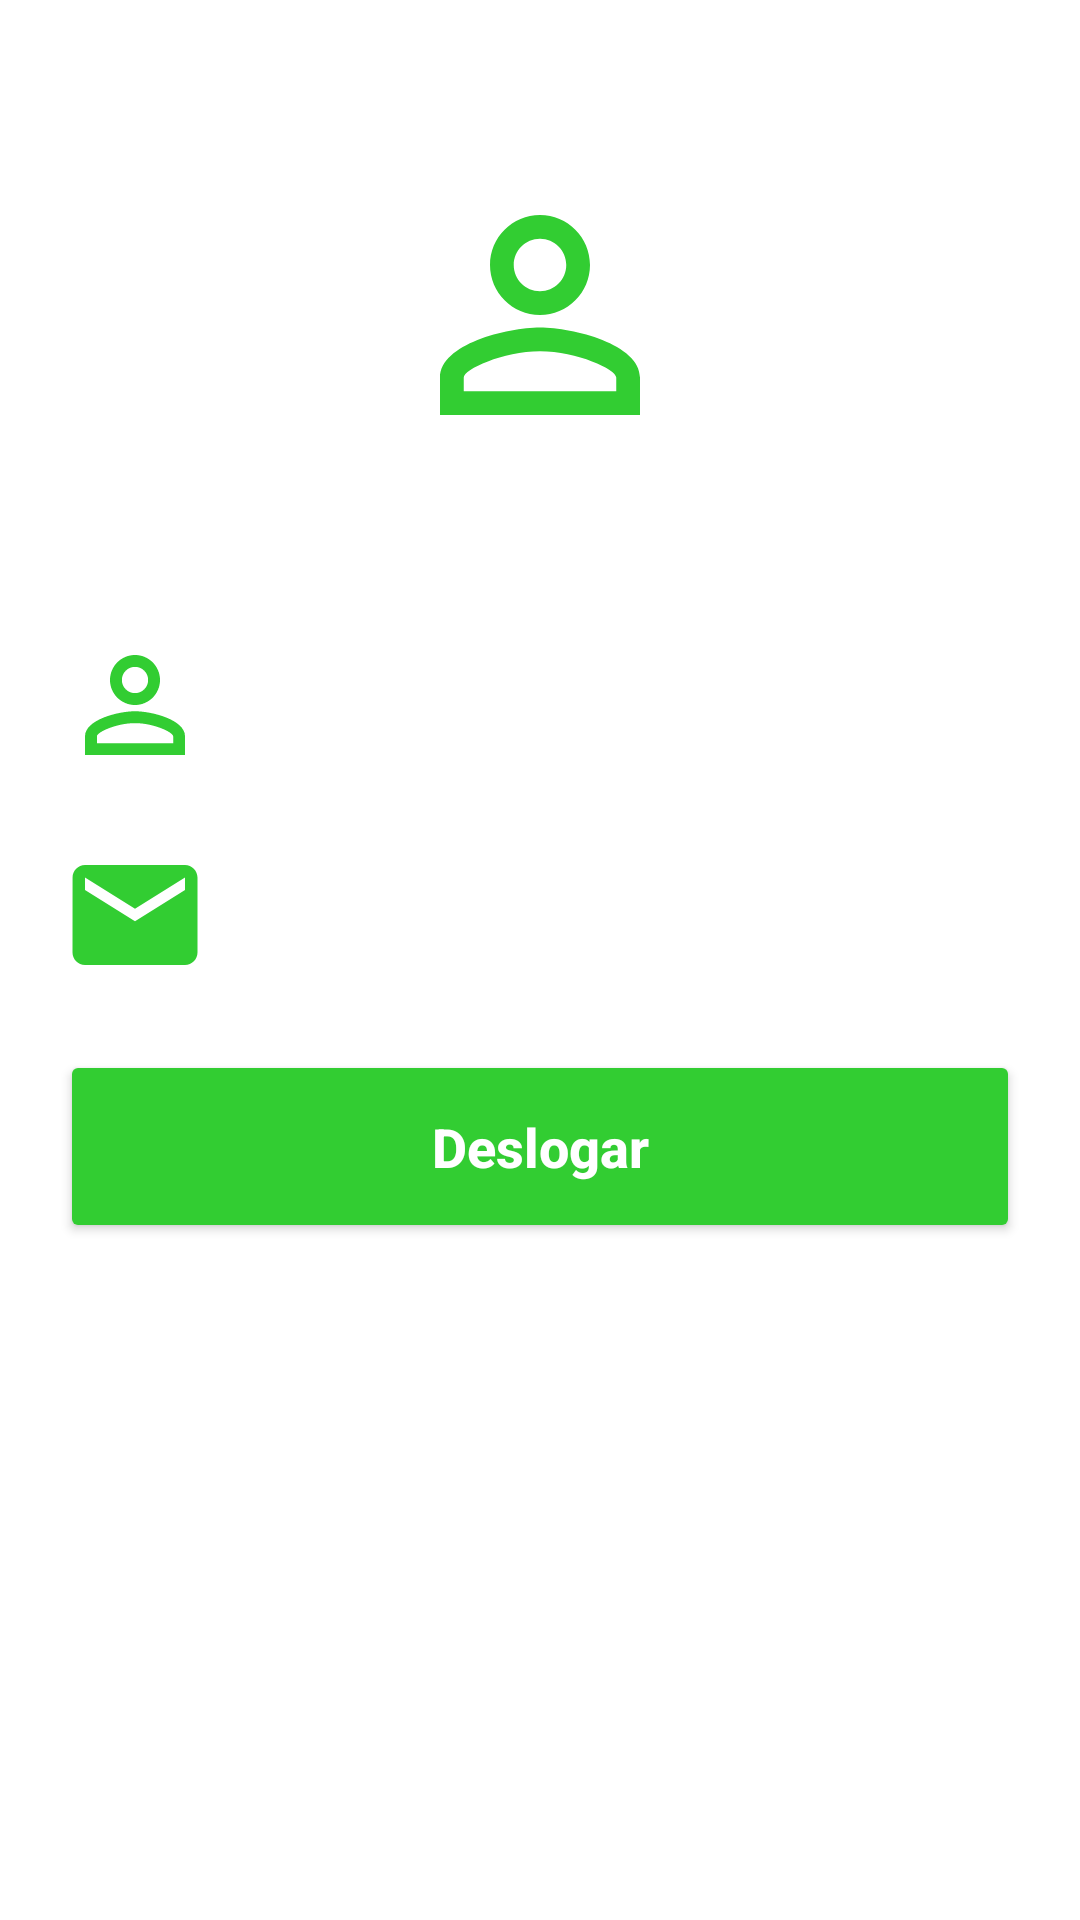

Named icons in this screenshot (1080×1920) and their centers, [x,y]:
email limegreen: [135,915]
user: [540,315], [135,705]
